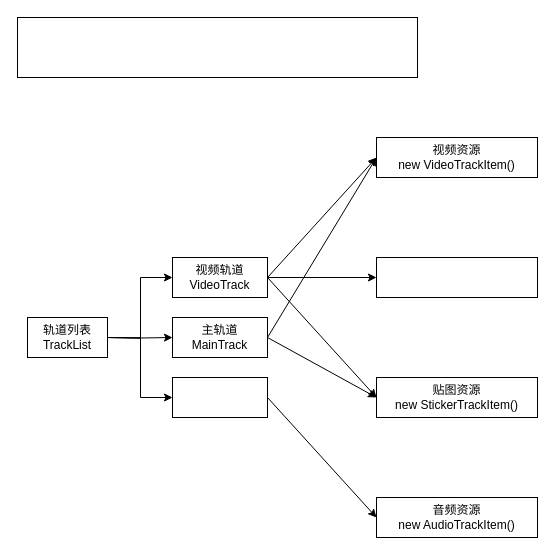
Some shapes in this 555 by 555 pixel diagram are drawn without their labels. Here are the shapes that lost their labels. From the top down, the centre of each, then its label:
At pixel 217 47: "1. 记录位置比例，而不是具体的数值".
At pixel 457 277: "文本资源 new TextTrackItem()".
At pixel 220 397: "音频轨道 AudioTrack".
